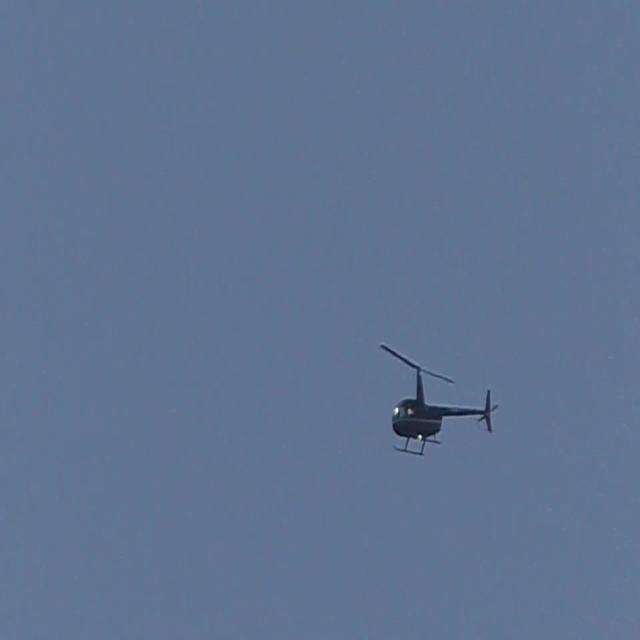CIV_HELO: (392, 364, 498, 457)
